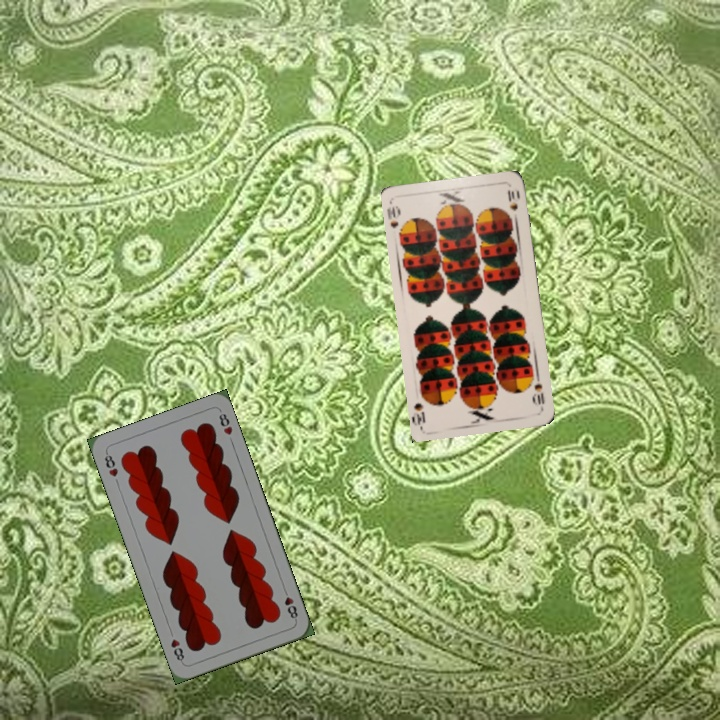H8: (279, 584, 300, 624), (100, 448, 121, 480)
S10: (384, 202, 407, 239), (529, 380, 547, 407)
